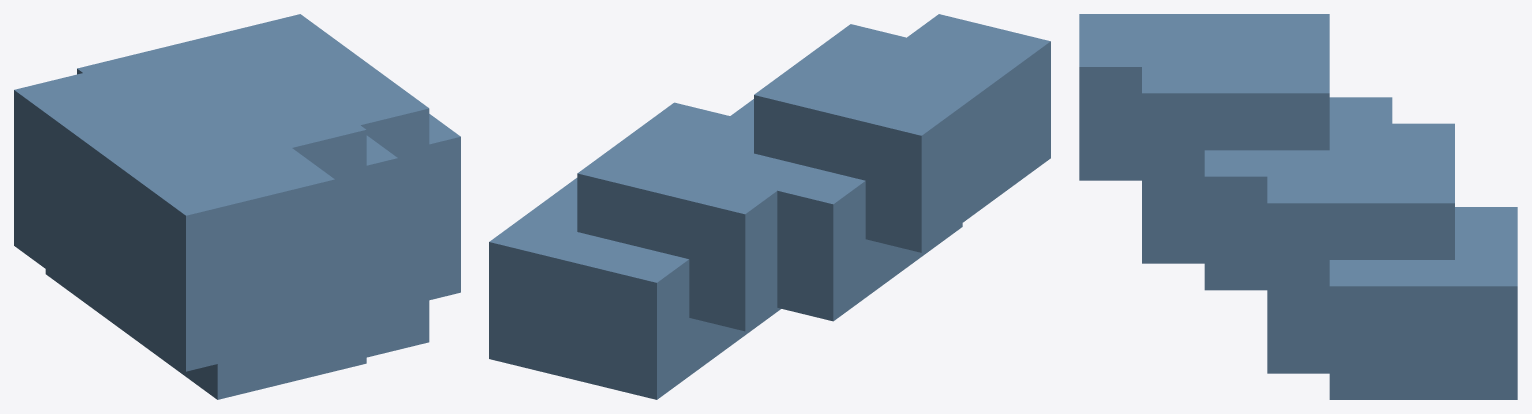
The model's file is dolphin__fin_l.glb.
The picture shows the model from 3 angles, left to right: view 1: azimuth 30°, elevation 25°; view 2: azimuth 150°, elevation 25°; view 3: azimuth 270°, elevation 25°; orthographic projection. The views are drawn at different scales.
Parts seen in each view (by area): view 1: dolphin__fin_l; view 2: dolphin__fin_l; view 3: dolphin__fin_l.
Boxes of the visible parts, left/top/right/bottom form: dolphin__fin_l: left=14, top=14, right=460, bottom=399; dolphin__fin_l: left=489, top=14, right=1050, bottom=399; dolphin__fin_l: left=1079, top=14, right=1517, bottom=399.
Bounding box in the file's own units: 0.6 × 0.4 × 0.7.
1 material, 1 textured.
